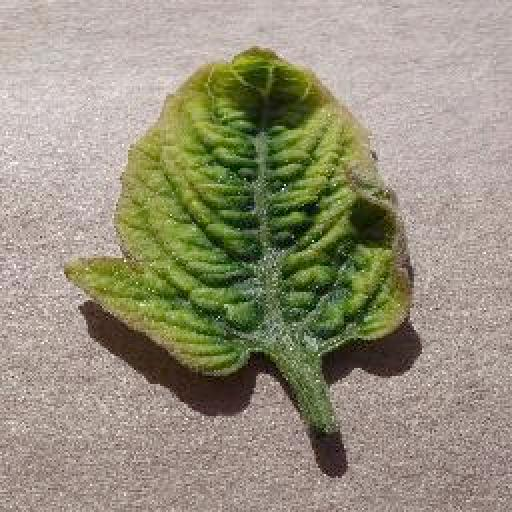disease_tomato: (64, 48, 418, 378)
